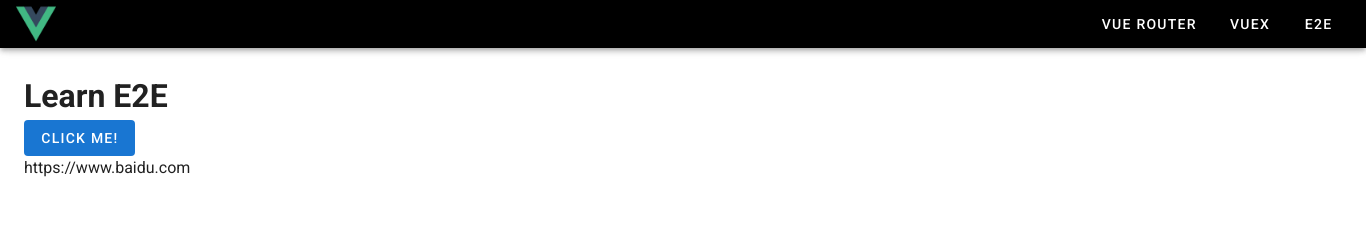
交互测试 › clicks the button!
Click the button "click me!".
click(80, 138)  # box [24, 120, 135, 156]
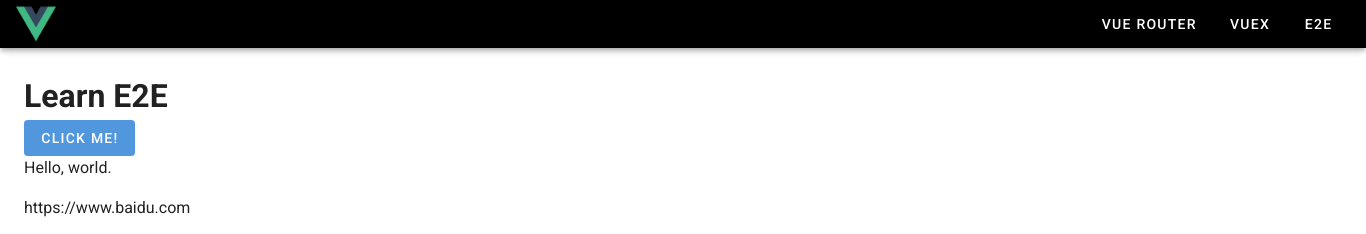
expect the text "Hello, world." is shown: met, box [24, 158, 112, 177]
